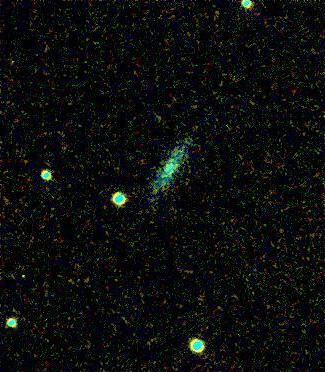star: (11, 261, 41, 291)
